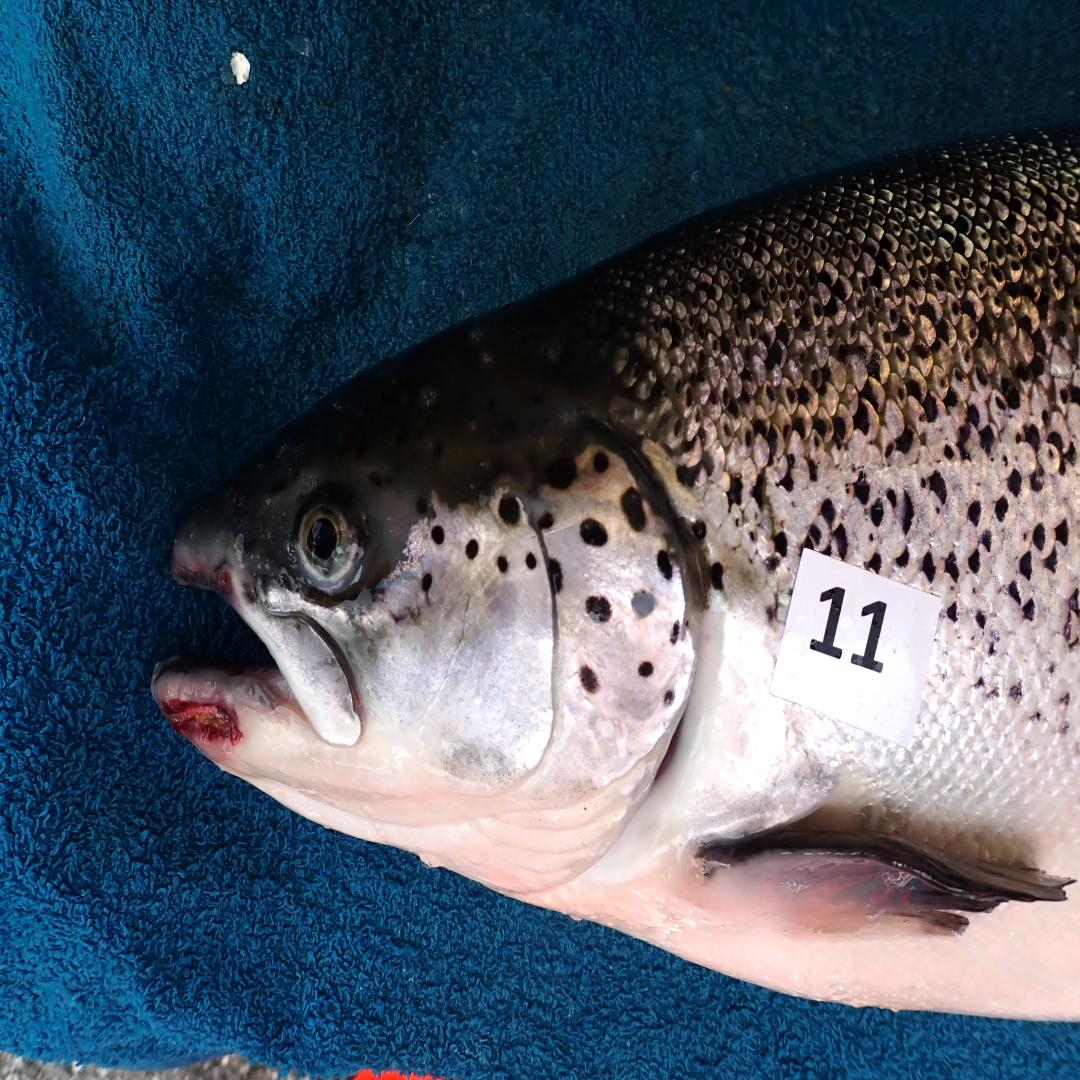roi: (359, 442, 700, 901)
